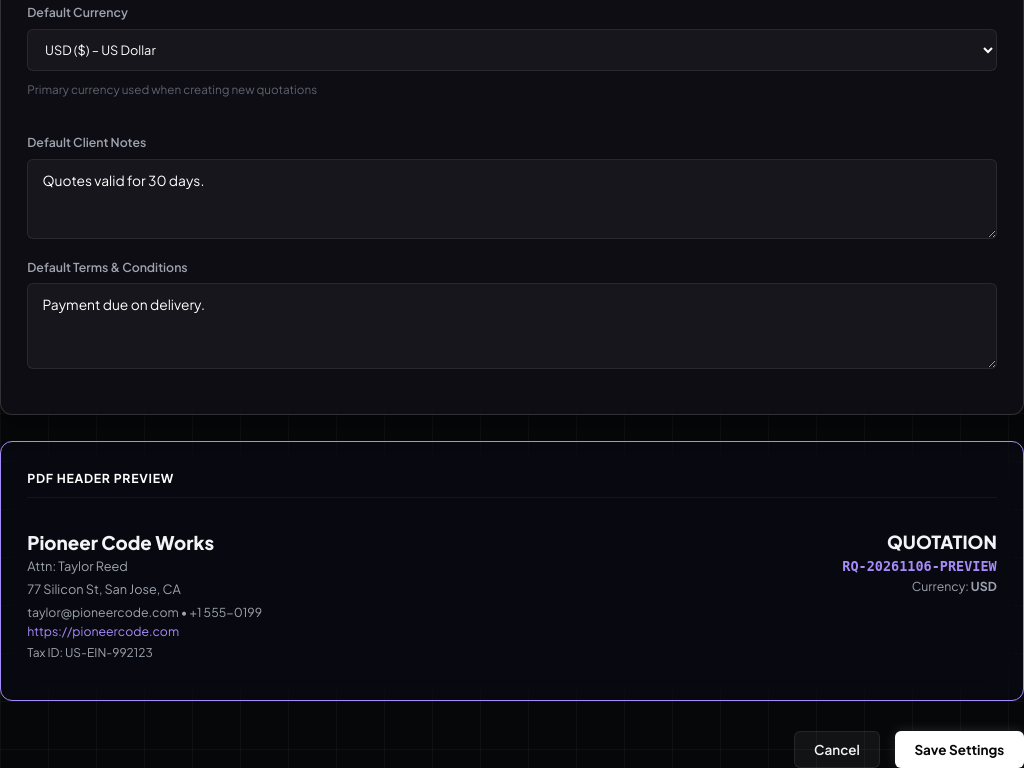
Scenario: SettingsPage › displays error alert when profile update API fails
(page scrolled)
Click the button "Save Settings": (959, 750) 895,731 -> 1023,767
(page scrolled)
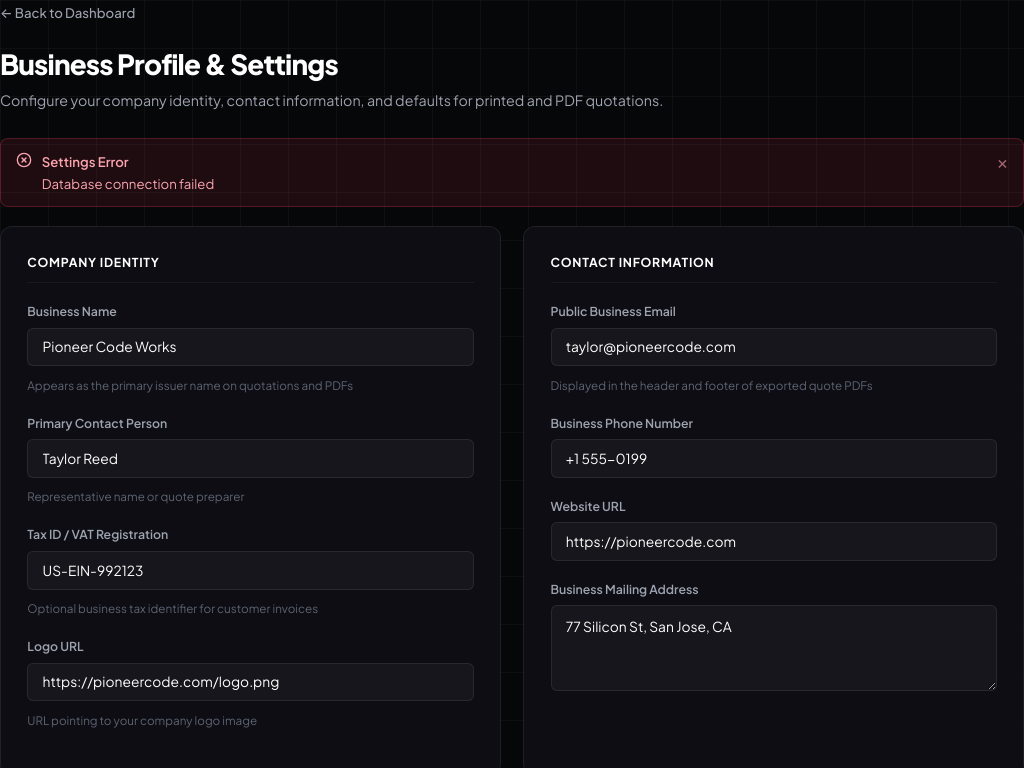
Expected: the text "Database connection failed" is shown, 42,174 -> 214,193
